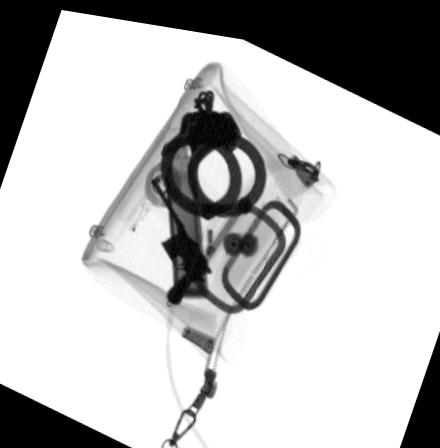Gun: (147, 170, 211, 300)
HandCuffs: (156, 82, 263, 212)
